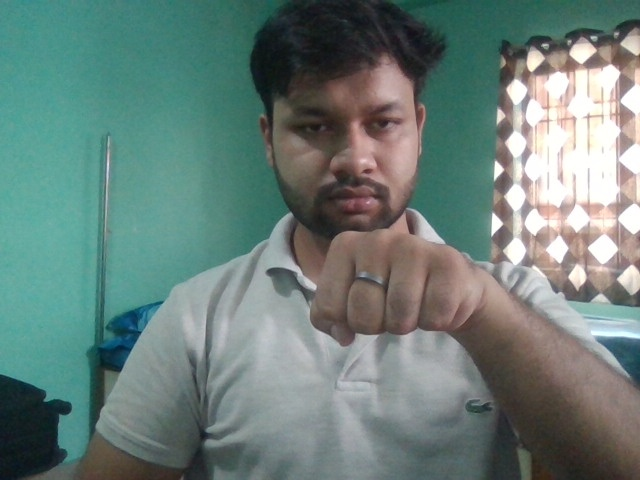Yes: (308, 226, 490, 349)
